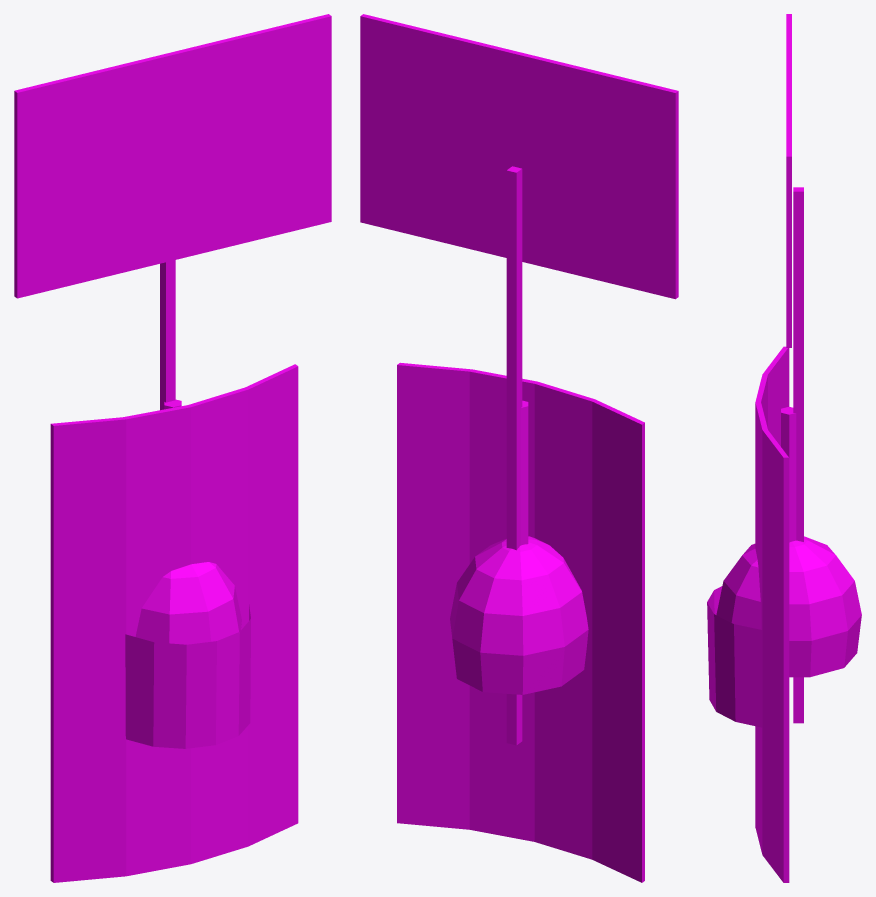
File: Gear.fbx
3 renders of one model, left to right at view 1: azimuth 30°, elevation 25°; view 2: azimuth 150°, elevation 25°; view 3: azimuth 270°, elevation 25°, orthographic. The views are drawn at different scales.
Parts seen in each view (by area): view 1: Shield, Sign, Helmet; view 2: Shield, Sign, Helmet, Baton; view 3: Helmet, Shield, Sign, Baton.
Boxes of the visible parts, x1,y1,x2,y2 form: Shield: (50,364,298,882); Sign: (14,14,331,410); Helmet: (125,562,250,748); Shield: (397,362,644,882); Sign: (360,14,678,745); Helmet: (450,536,588,694); Baton: (520,400,528,545); Helmet: (707,536,861,727); Shield: (755,346,789,882); Sign: (786,14,803,723); Baton: (781,406,796,542).
Size of the model in its own units: 0.72 by 1.75 by 0.33.
